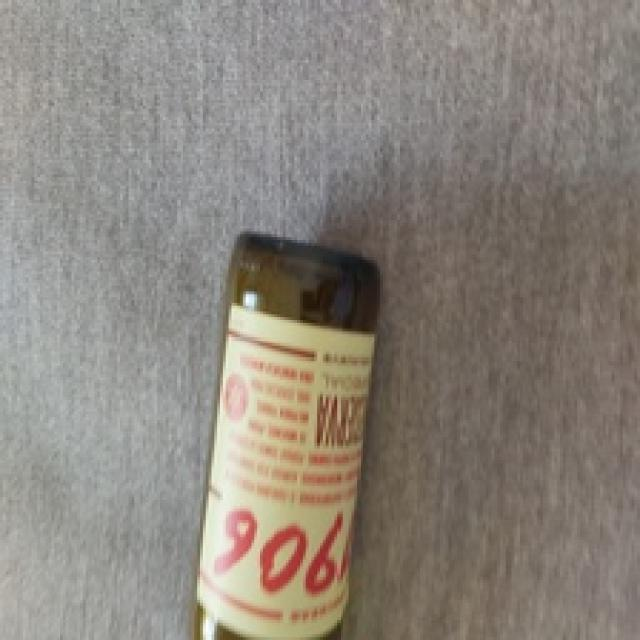Glass: (193, 232, 383, 640)
